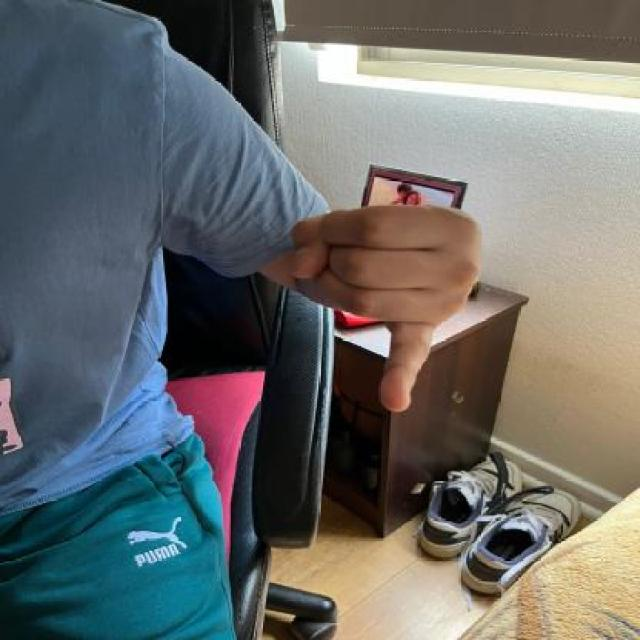Z: (292, 193, 486, 418)
